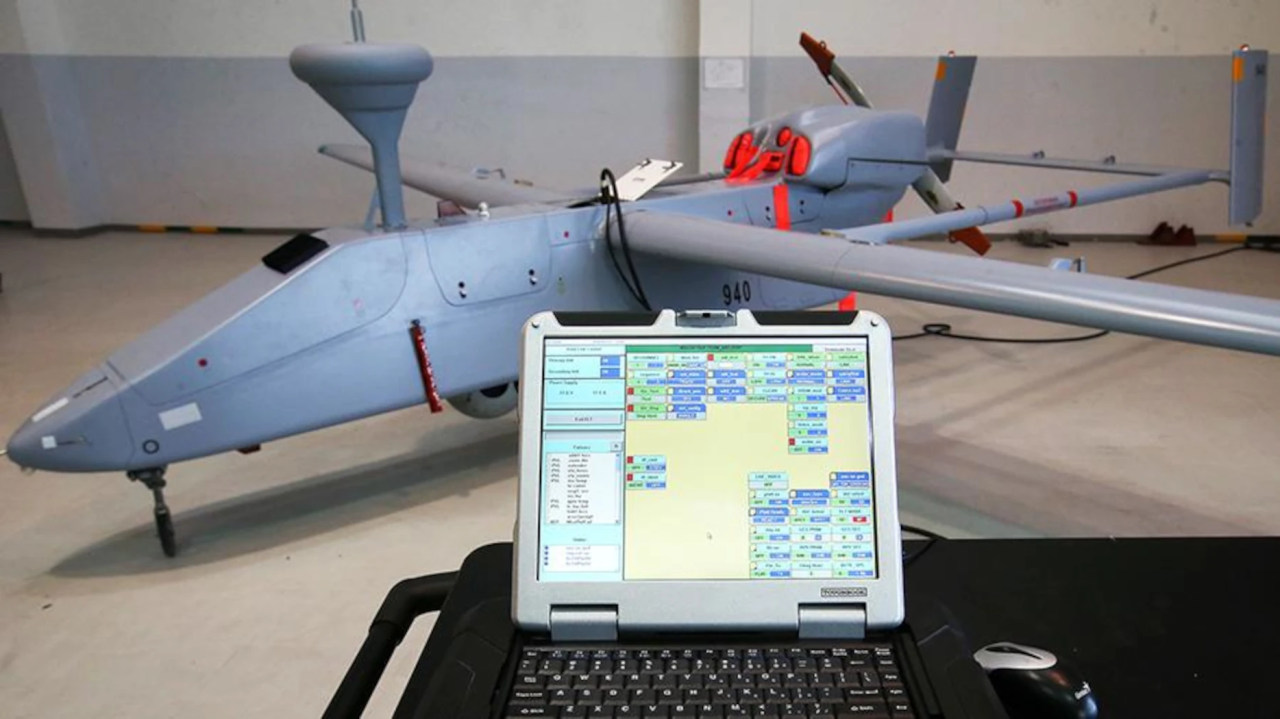military drone: (0, 0, 1280, 559)
